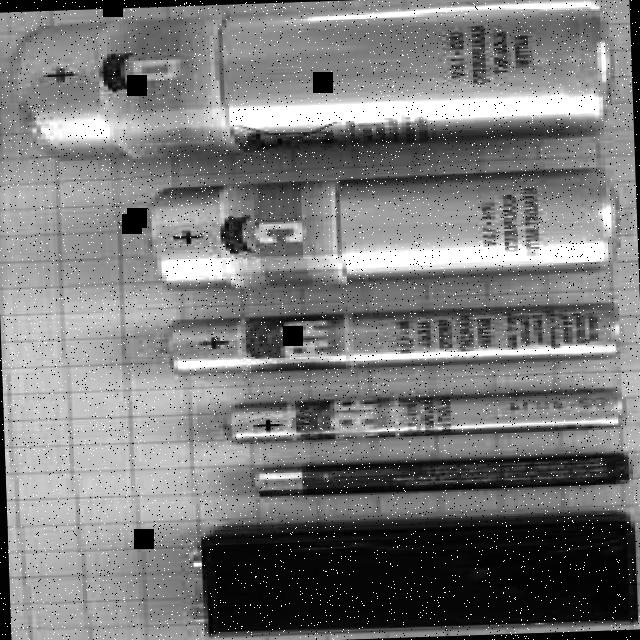battery: (12, 0, 611, 161), (147, 166, 618, 289), (188, 511, 636, 637), (158, 301, 621, 374), (222, 386, 623, 443), (250, 453, 629, 496)
